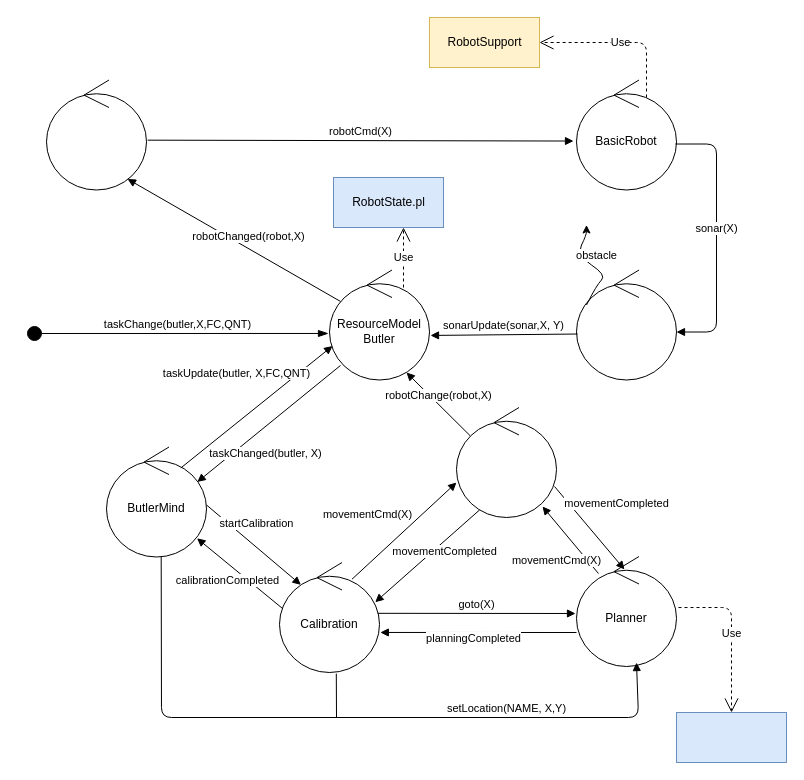
This 804x780 diagram has some shape labels left out. The shapes that lost their labels are listed below. From the top down, each one's centre as x and y in pixels, then its label:
the point at 96,134: Robotmind
the point at 626,324: ObstacleDetector
the point at 506,462: MovementHandler
the point at 731,737: RoomDescription
